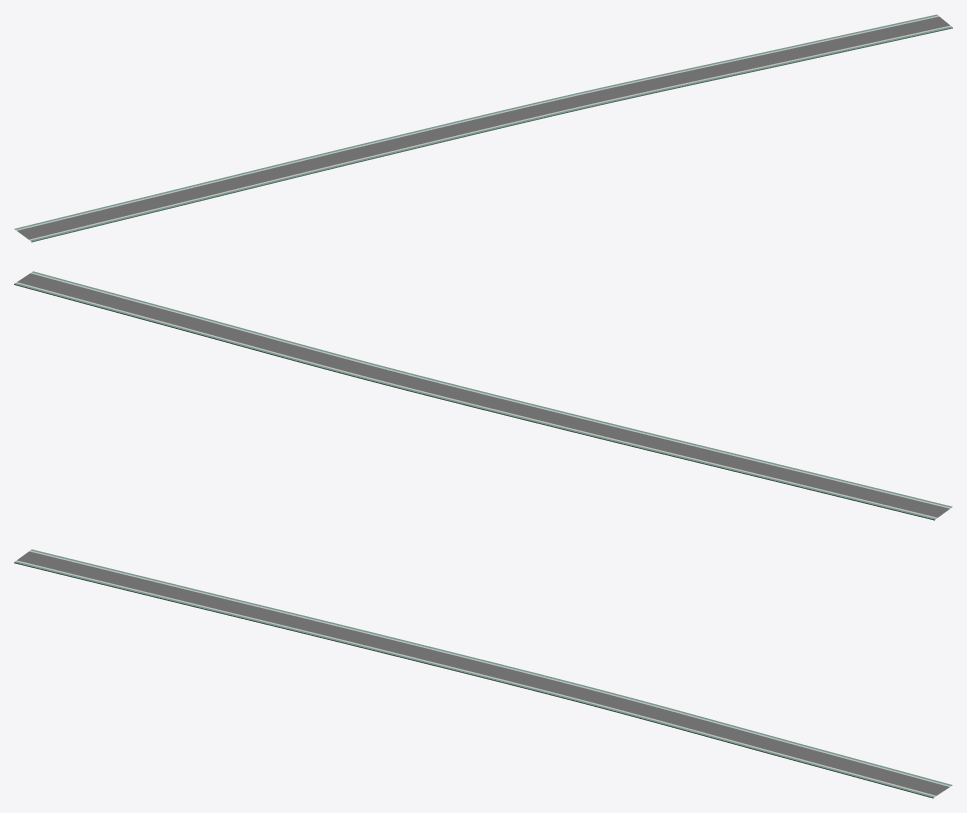
Rendered from road_roam_to_neon_docks.glb.
The picture shows the model from 3 angles, top to bottom: view 1: azimuth 30°, elevation 25°; view 2: azimuth 150°, elevation 25°; view 3: azimuth 330°, elevation 25°; orthographic projection. The views are drawn at different scales.
Parts seen in each view (by area): view 1: road; view 2: road; view 3: road.
Boxes of the visible parts, x1,y1,x2,y2 form: road: (14,14,952,242); road: (14,271,952,520); road: (14,549,952,798).
Bounding box in the file's own units: 362 × 0.32 × 19.67.
